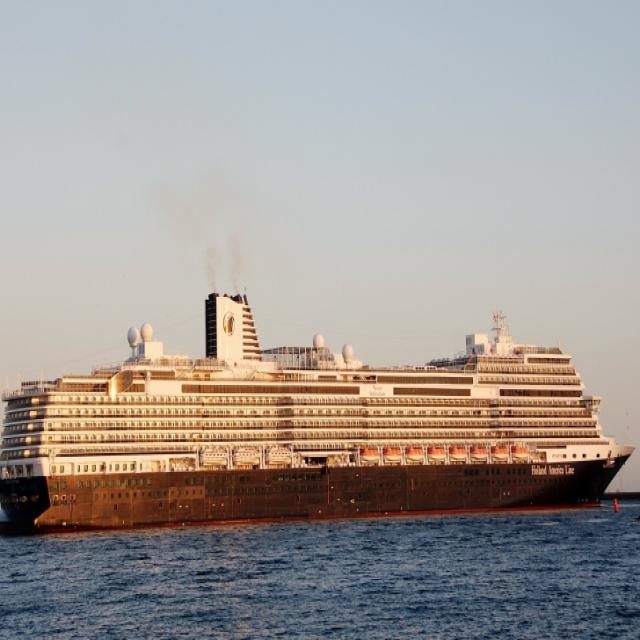cruises: (1, 282, 640, 541)
